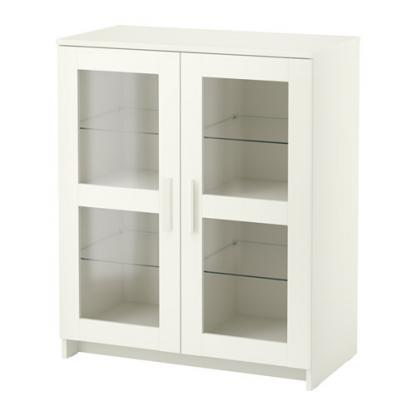Cabinet: (50, 19, 361, 386)
